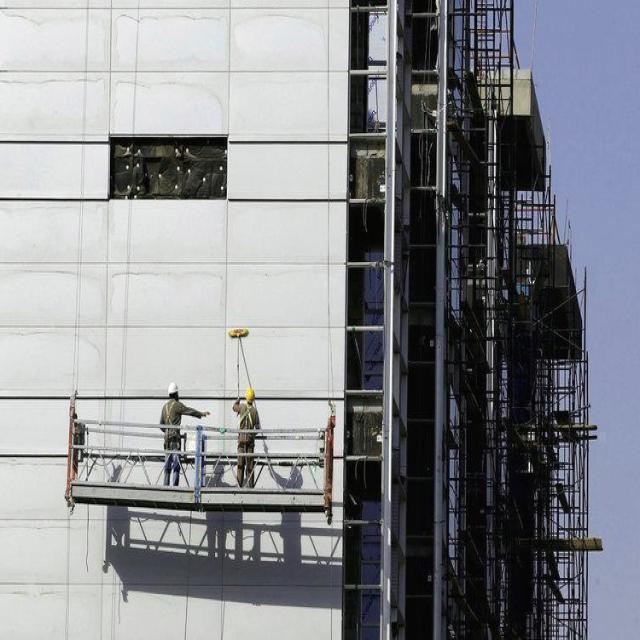hand_noglove: (198, 407, 209, 423)
head_helmet: (168, 381, 181, 394), (246, 387, 255, 399)
person: (156, 383, 190, 482), (235, 391, 258, 487)
